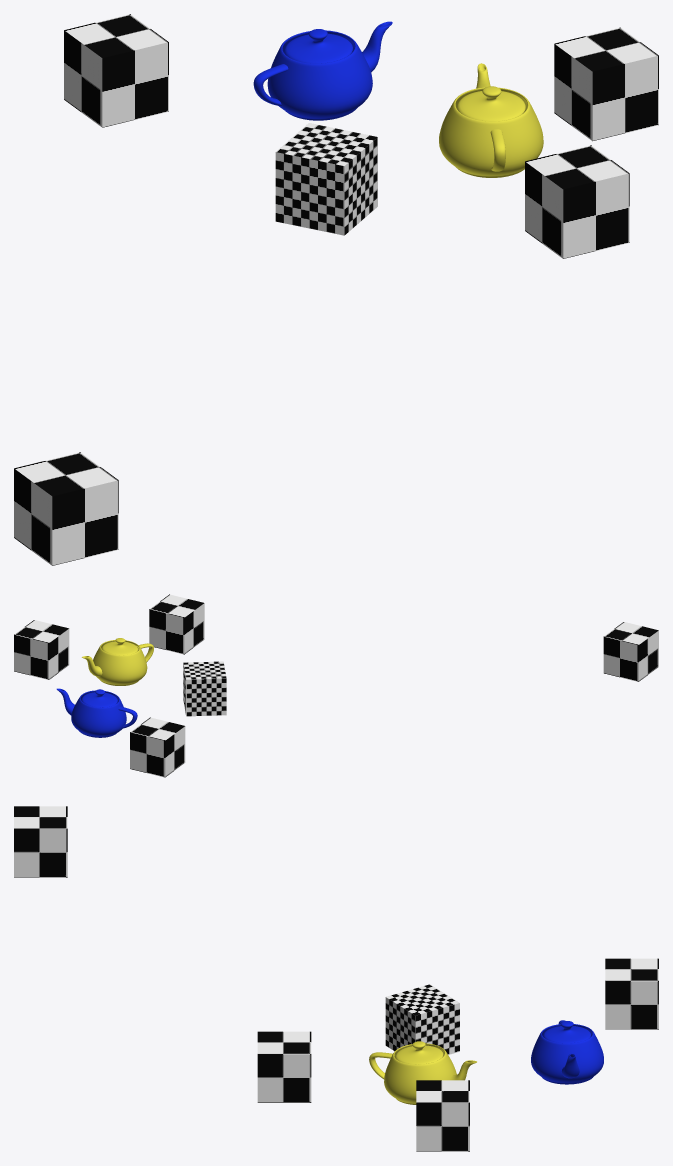
Rendered from teapot.fbx.
3 renders of one model, top to bottom at view 1: azimuth 30°, elevation 25°; view 2: azimuth 150°, elevation 25°; view 3: azimuth 270°, elevation 25°, orthographic. The views are drawn at different scales.
Visible parts, largest first — view 1: Cube_check.003, Cube_check, Cube_check.001, Cube_check.004, Box_L_box.blend, teapot.001, teapot; view 2: Cube_check, Cube_check.004, Cube_check.001, Cube_check.003, teapot.001, Box_L_box.blend, teapot; view 3: Box_L_box.blend, Cube_check.003, Cube_check, Cube_check.001, Cube_check.004, teapot.001, teapot.
Part boxes in pixels (<box>): Cube_check.003: <box>525,145,629,258</box>; Cube_check: <box>64,14,168,127</box>; Cube_check.001: <box>554,27,658,141</box>; Cube_check.004: <box>14,452,118,565</box>; Box_L_box.blend: <box>275,123,377,235</box>; teapot.001: <box>253,21,392,120</box>; teapot: <box>439,63,543,177</box>; Cube_check: <box>130,717,185,777</box>; Cube_check.004: <box>603,622,658,681</box>; Cube_check.001: <box>14,620,69,679</box>; Cube_check.003: <box>149,594,204,654</box>; teapot.001: <box>56,688,137,737</box>; Box_L_box.blend: <box>183,661,226,716</box>; teapot: <box>82,638,153,685</box>; Box_L_box.blend: <box>385,984,459,1054</box>; Cube_check.003: <box>257,1031,311,1102</box>; Cube_check: <box>605,958,658,1029</box>; Cube_check.001: <box>416,1080,469,1151</box>; Cube_check.004: <box>14,806,67,877</box>; teapot.001: <box>531,1020,603,1084</box>; teapot: <box>369,1041,476,1104</box>.
Size of what is drawn, in the model's own units: 26.93 by 2.51 by 24.05.
